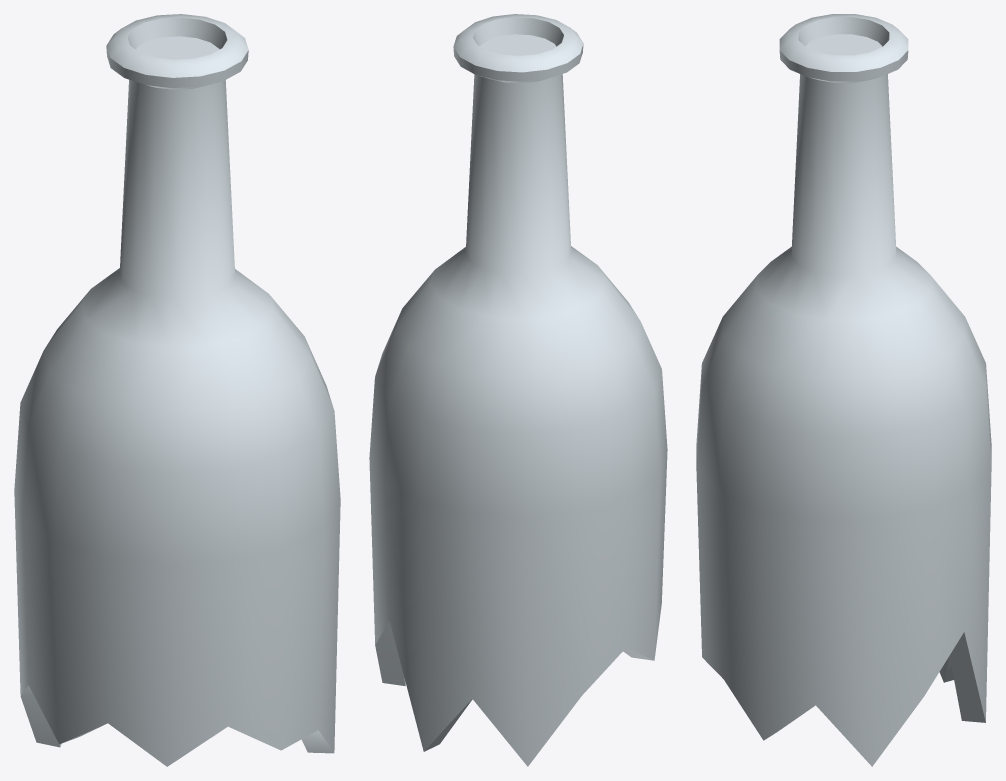
File: Botella_03.001.fbx
3 renders of one model, left to right at view 1: azimuth 30°, elevation 25°; view 2: azimuth 150°, elevation 25°; view 3: azimuth 270°, elevation 25°, orthographic. The views are drawn at different scales.
Parts seen in each view (by area): view 1: Botella_03.001; view 2: Botella_03.001; view 3: Botella_03.001.
Boxes of the visible parts, bbox=[...] form: Botella_03.001: bbox=[14, 14, 340, 766]; Botella_03.001: bbox=[369, 14, 667, 766]; Botella_03.001: bbox=[696, 14, 991, 766].
Bounding box in the file's own units: 27.8 × 70.13 × 27.8.
